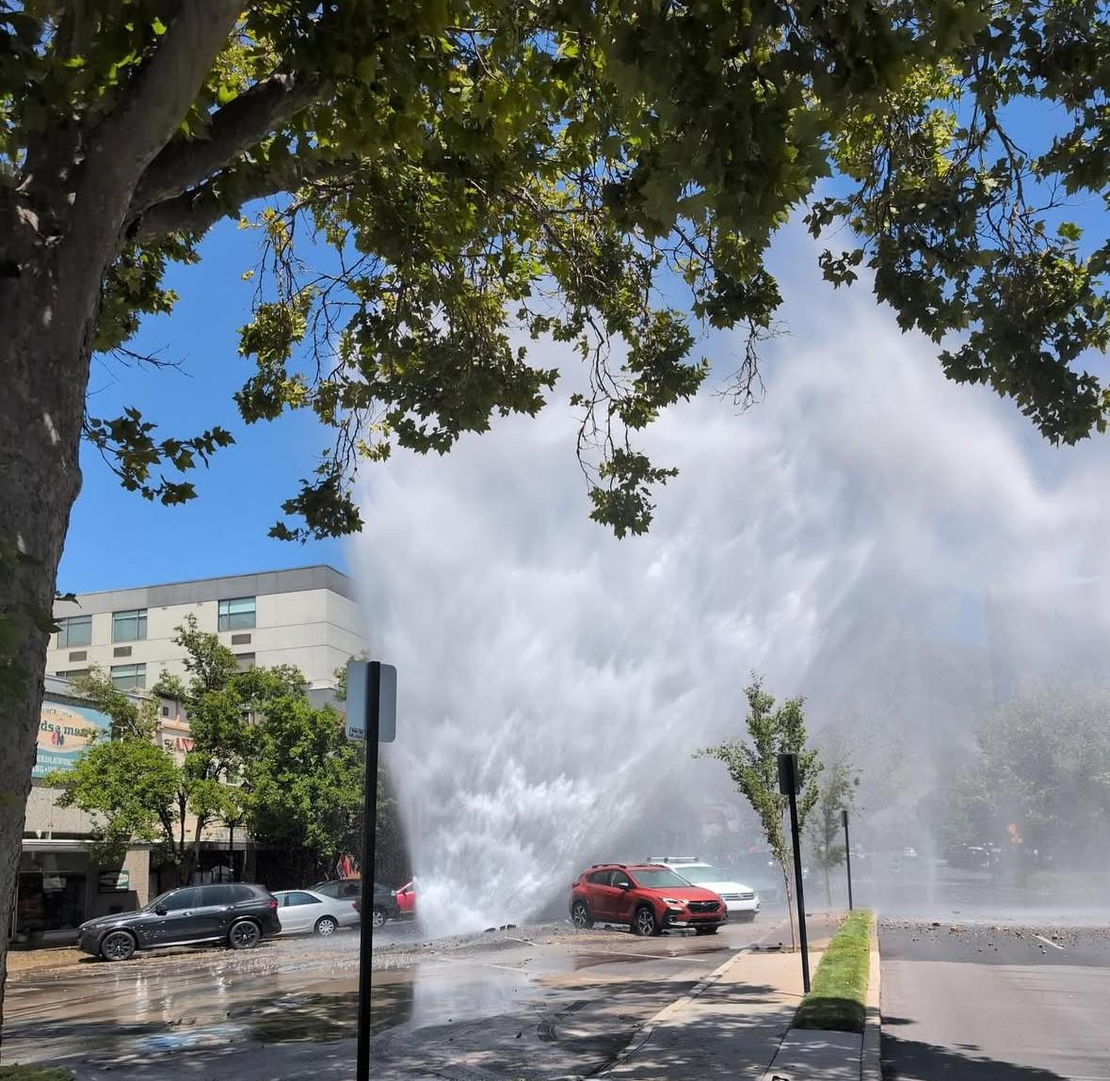pipe burst: (345, 257, 1110, 948)
water accumulation: (0, 945, 713, 1081)
